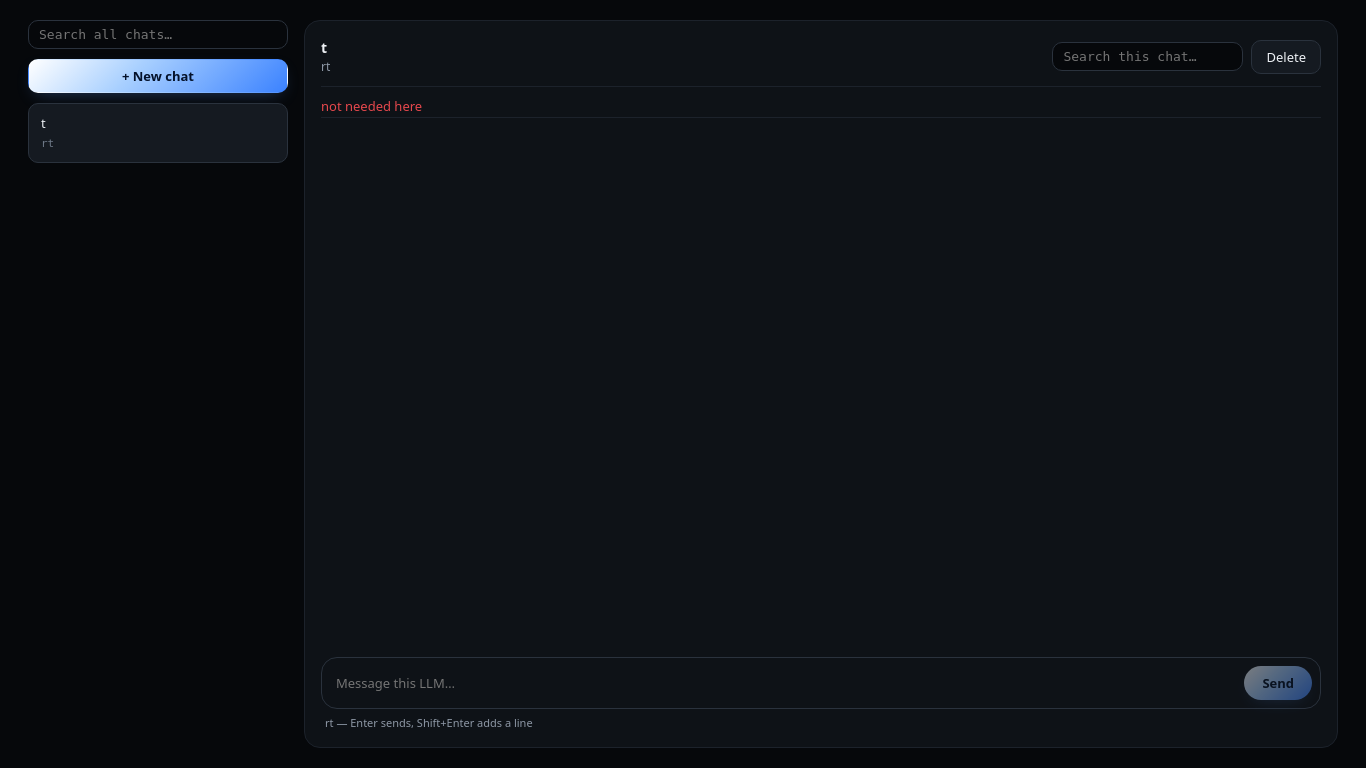
Test: ChatView streaming send › a stream `error` event is shown and what was stored stays
This screenshot has width=1366, height=768.
Type "hello" into the text box with placeholder "Message this LLM…". click: (786, 682)
box: 336,666 -> 1236,700
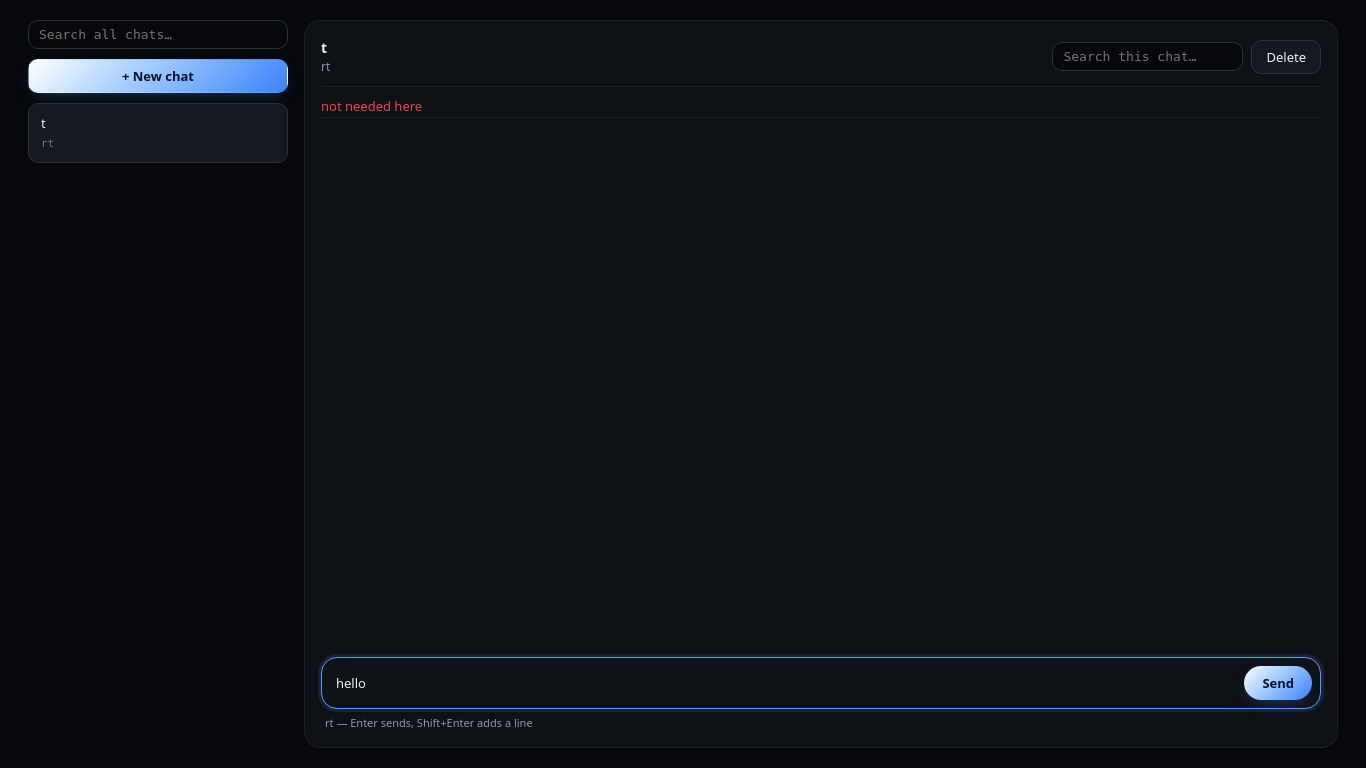
Click the button "Send". click: (1278, 682)
box: 1244,666 -> 1312,700
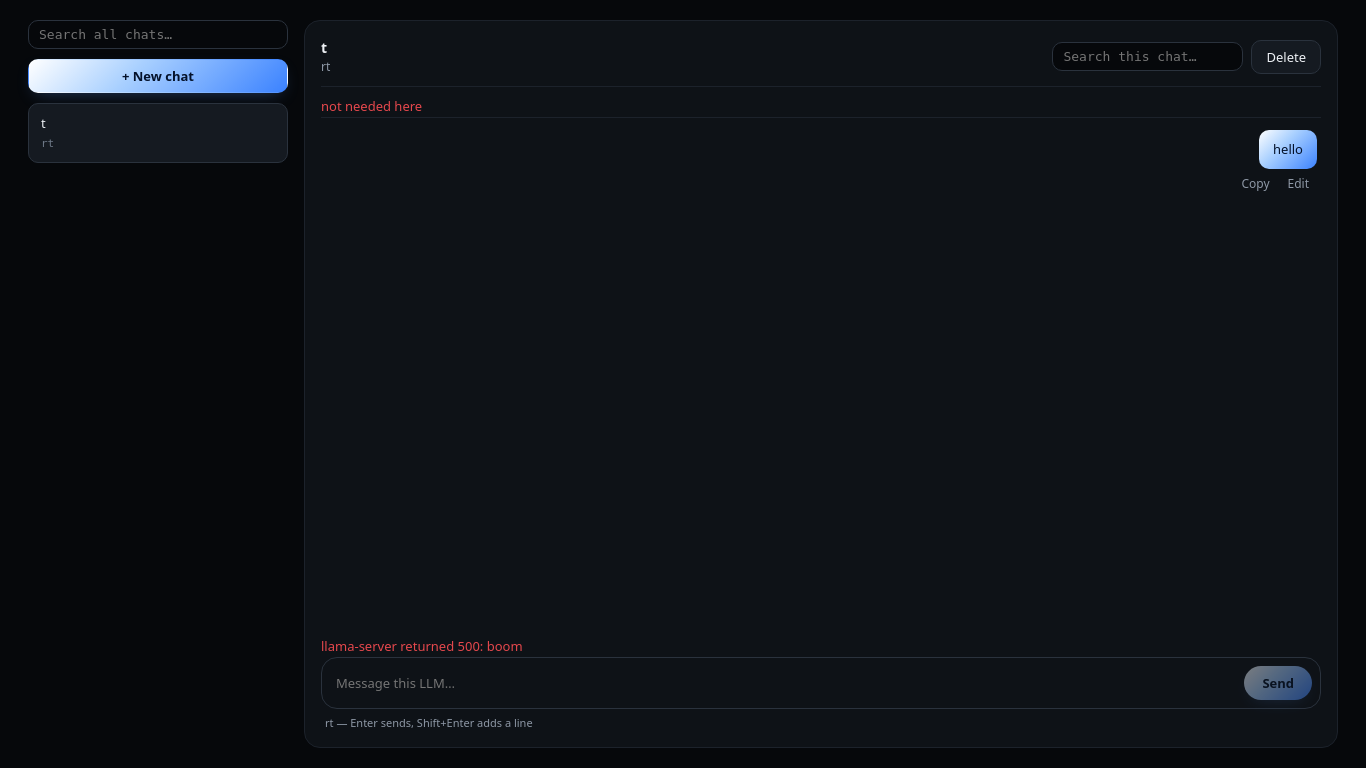
expect the text "llama-server returned 500: boom" is shown: met, box 321,637 -> 523,655
expect the text "hello" is shown: met, box 1259,130 -> 1317,169
